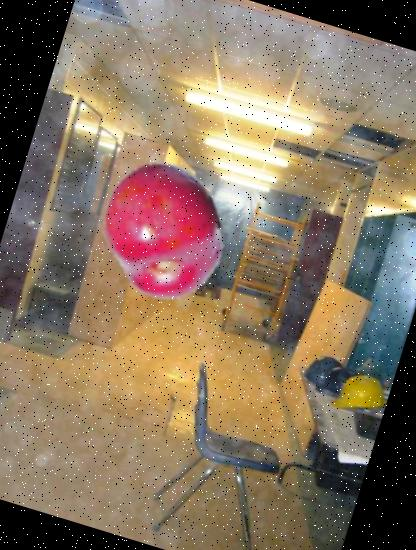Cherry: (76, 143, 252, 320)
